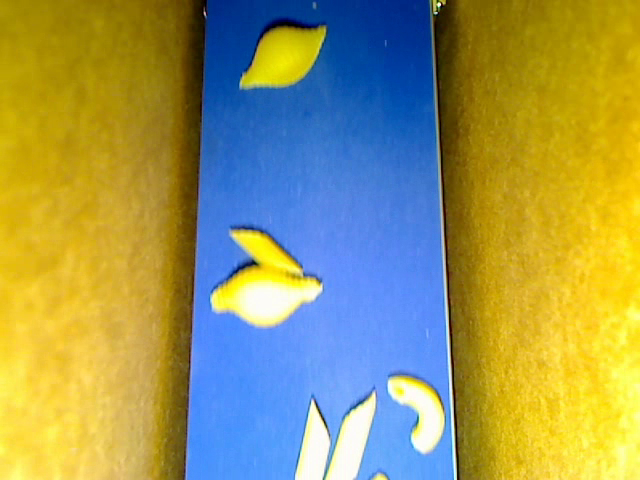elbow: (386, 374, 446, 454)
penne: (324, 390, 376, 479), (228, 228, 302, 273), (292, 398, 330, 479)
shell: (208, 264, 324, 329), (238, 24, 327, 89)
